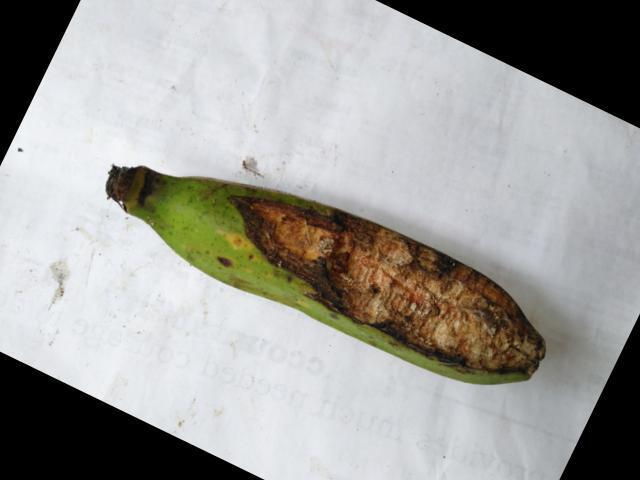rotten: (205, 186, 550, 385)
